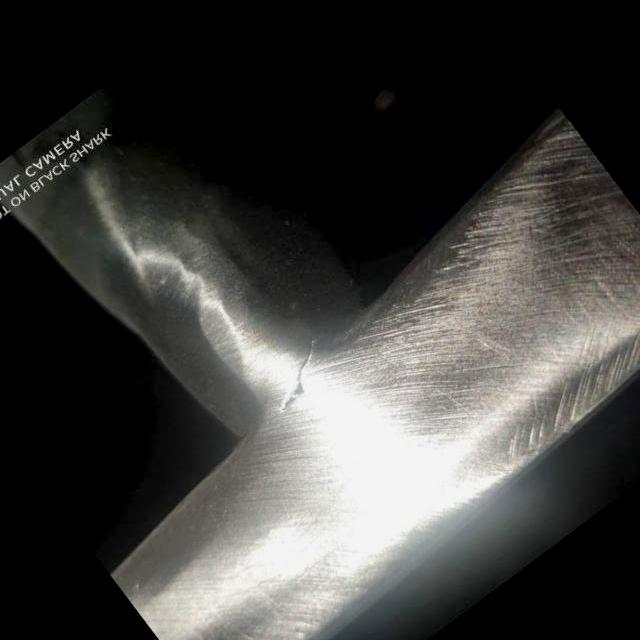defect: (279, 334, 316, 411)
